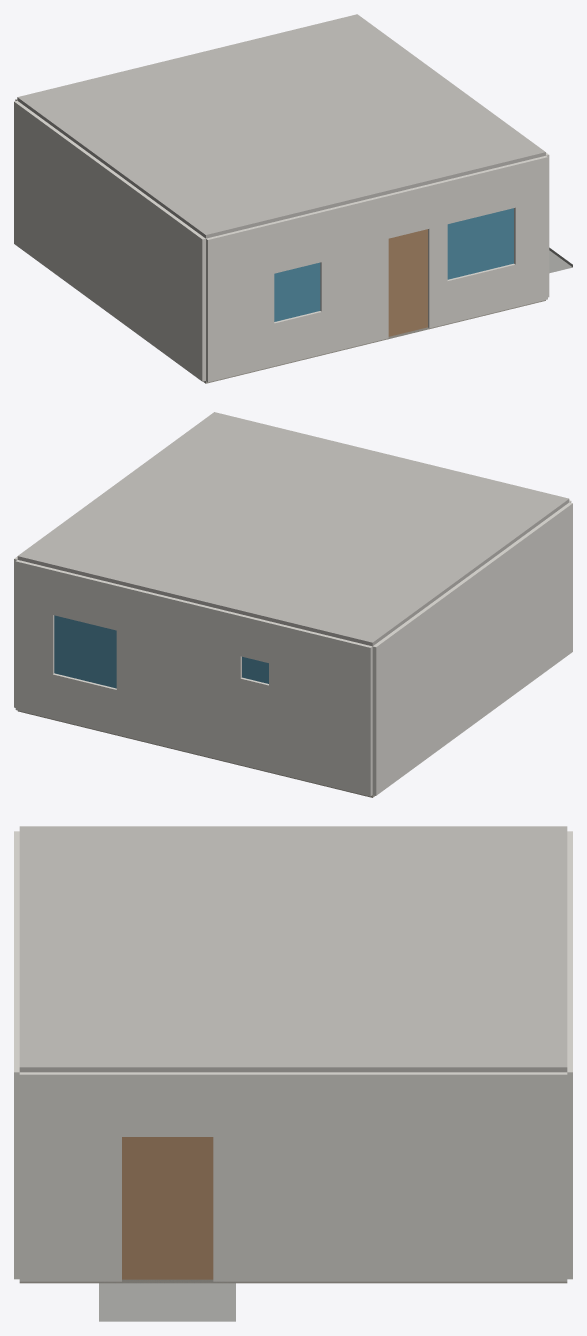
Rendered from 1BHK_07.glb.
3 renders of one model, top to bottom at view 1: azimuth 30°, elevation 25°; view 2: azimuth 150°, elevation 25°; view 3: azimuth 270°, elevation 25°, orthographic. The views are drawn at different scales.
Visible parts, largest first — view 1: Roof, Wall_W003, Wall_W001, Wall_W010, Wall_W002, Wall_W007, Door_D_ENTRY, Window_WN01, Window_WN02, Floor; view 2: Roof, Wall_W018, Wall_W010, Wall_W002, Wall_W016, Wall_W017, Wall_W007, Window_WN03, Window_WN04, Floor; view 3: Roof, Wall_W015, Wall_W005, Door_D_BAL_01, Balcony_BAL_MAIN, Wall_W003, Wall_W018, Floor.
Part boxes in pixels (left/top/right/bottom): Roof: left=17, top=14, right=545, bottom=238; Wall_W003: left=339, top=155, right=547, bottom=349; Wall_W001: left=206, top=206, right=340, bottom=382; Wall_W010: left=14, top=100, right=103, bottom=306; Wall_W002: left=129, top=185, right=205, bottom=381; Wall_W007: left=100, top=164, right=131, bottom=327; Door_D_ENTRY: left=388, top=229, right=427, bottom=336; Window_WN01: left=447, top=208, right=513, bottom=279; Window_WN02: left=274, top=262, right=320, bottom=321; Floor: left=203, top=300, right=545, bottom=383; Roof: left=17, top=412, right=569, bottom=646; Wall_W018: left=15, top=560, right=233, bottom=762; Wall_W010: left=372, top=580, right=466, bottom=795; Wall_W002: left=493, top=502, right=572, bottom=707; Wall_W016: left=303, top=630, right=372, bottom=796; Wall_W017: left=232, top=612, right=304, bottom=779; Wall_W007: left=463, top=558, right=496, bottom=729; Window_WN03: left=54, top=615, right=116, bottom=688; Window_WN04: left=242, top=656, right=268, bottom=683; Floor: left=17, top=710, right=375, bottom=797; Roof: left=19, top=826, right=567, bottom=1072; Wall_W015: left=315, top=1072, right=567, bottom=1281; Wall_W005: left=19, top=1072, right=315, bottom=1281; Door_D_BAL_01: left=122, top=1137, right=213, bottom=1279; Balcony_BAL_MAIN: left=99, top=1280, right=235, bottom=1321; Wall_W003: left=14, top=925, right=19, bottom=1279; Wall_W018: left=567, top=925, right=572, bottom=1279; Floor: left=19, top=1279, right=567, bottom=1283.
Bounding box in the file's own units: 8.92 × 3.18 × 7.47.
